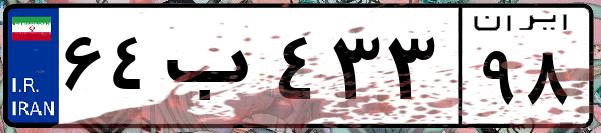3: (385, 28, 445, 110), (330, 28, 385, 110)
4: (270, 28, 330, 110), (110, 28, 158, 98)
6: (57, 26, 110, 100)
8: (525, 38, 570, 115)
9: (475, 38, 525, 113)
ب: (158, 20, 270, 120)
